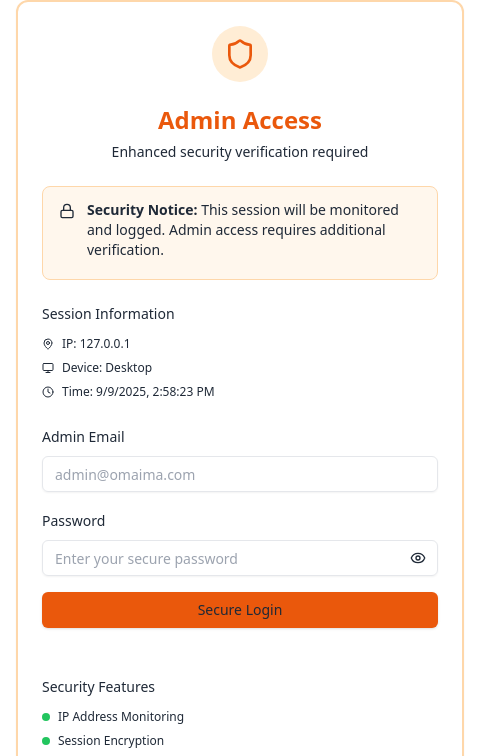
AdminLoginForm Component › should handle generic error during login
The width and height of the screenshot is (481, 756).
Type "admin@example.com" into the field labelled "Admin Email".
click(240, 474); type("admin@example.com")  # box [42,456,438,492]
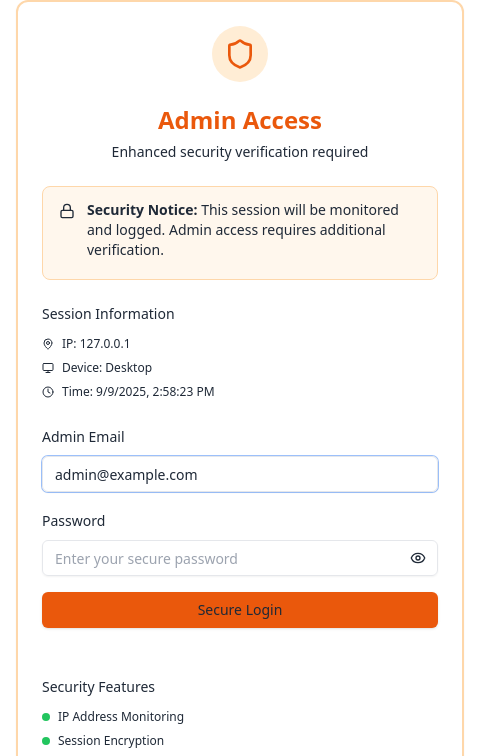
Type "password123" into the password field labelled "Password".
click(240, 558); type("password123")  # box [42,540,438,576]
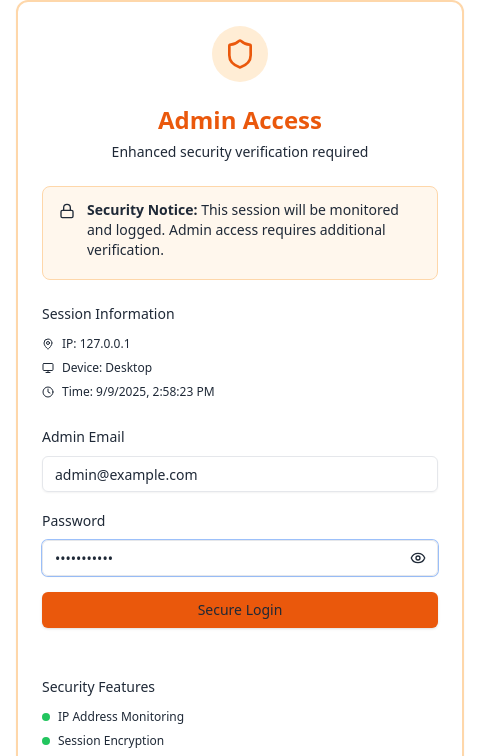
Click the button "Secure Login".
click(240, 610)  # box [42,592,438,628]
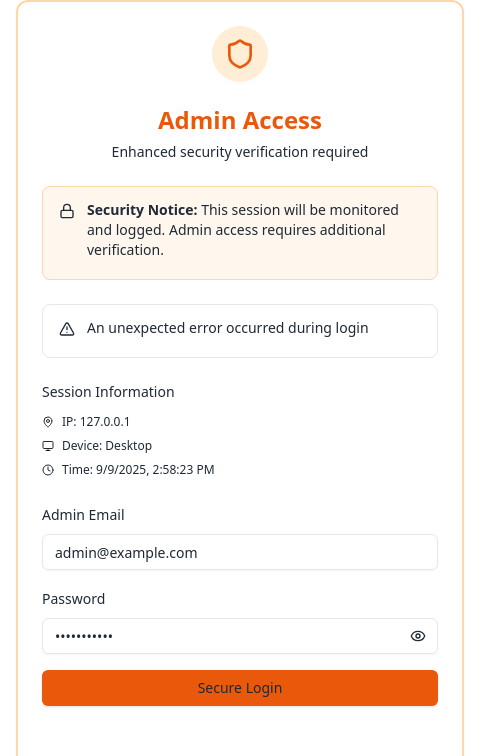
Now the text "An unexpected error occurred during login" is shown, box [87,318,369,337]
